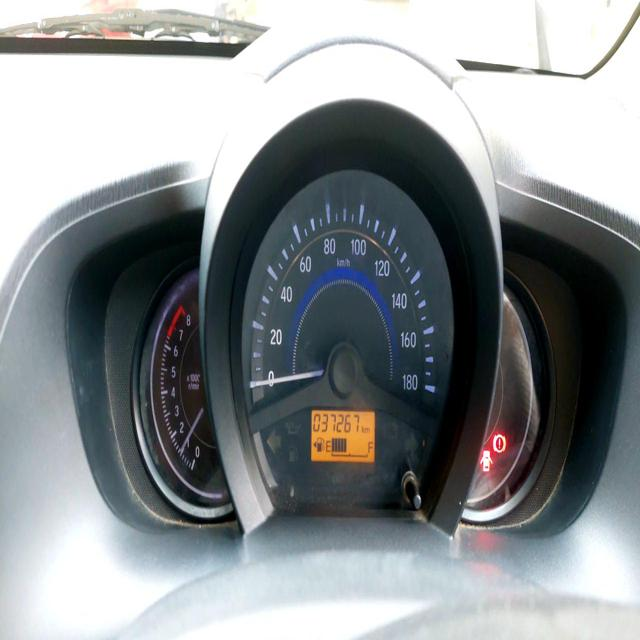odometer: (311, 409, 360, 435)
